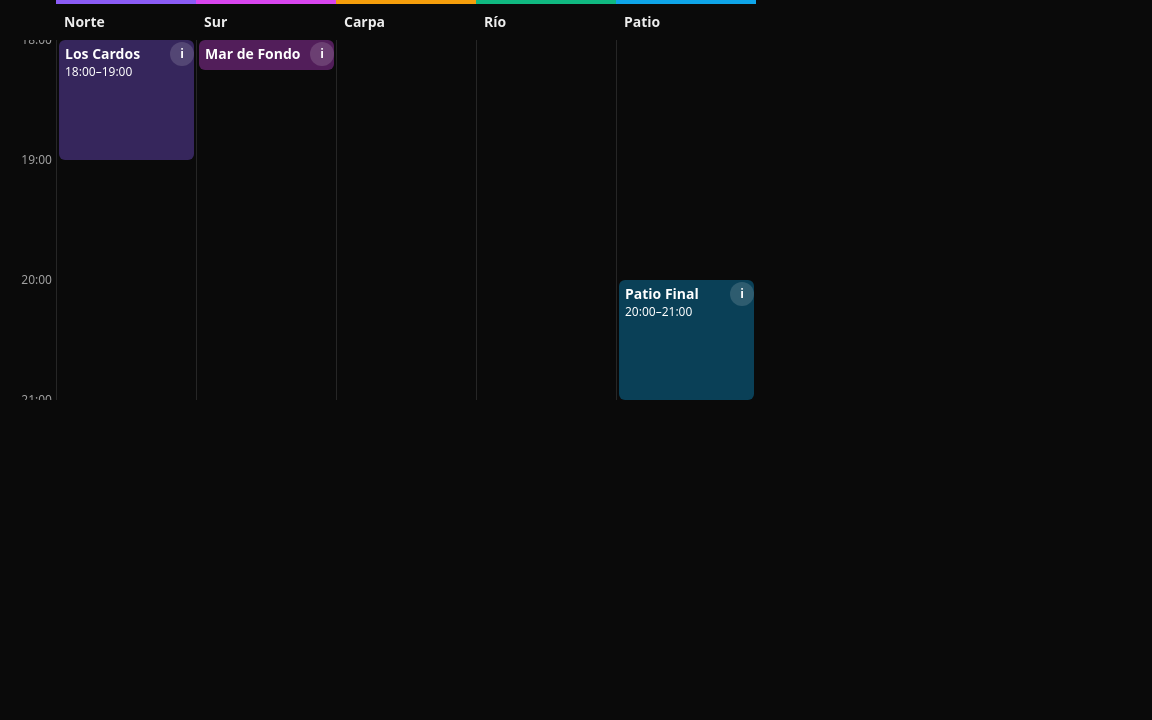
Test: DayGrid › opens the detail from the 'Ver detalle' control (AC-35, FR-085)
Click the button named "Ver detalle de Los Cardos" at (182, 54), box [170,42,194,66]
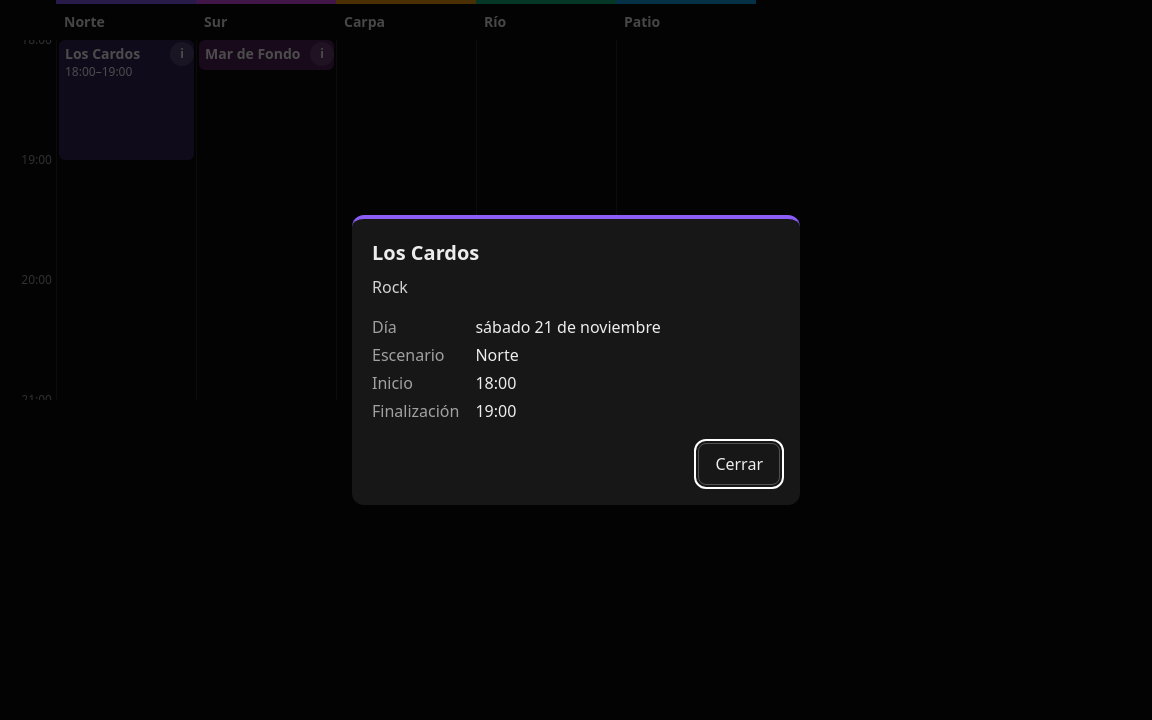
Expected: the dialog "Los Cardos" shows "Rock", [372,276,408,298]
Expected: the dialog "Los Cardos" shows "Norte", [475,344,519,366]
Expected: the dialog "Los Cardos" shows "18:00", [475,372,516,394]
Click the button "Cerrar" at (739, 464), box [698,443,780,485]
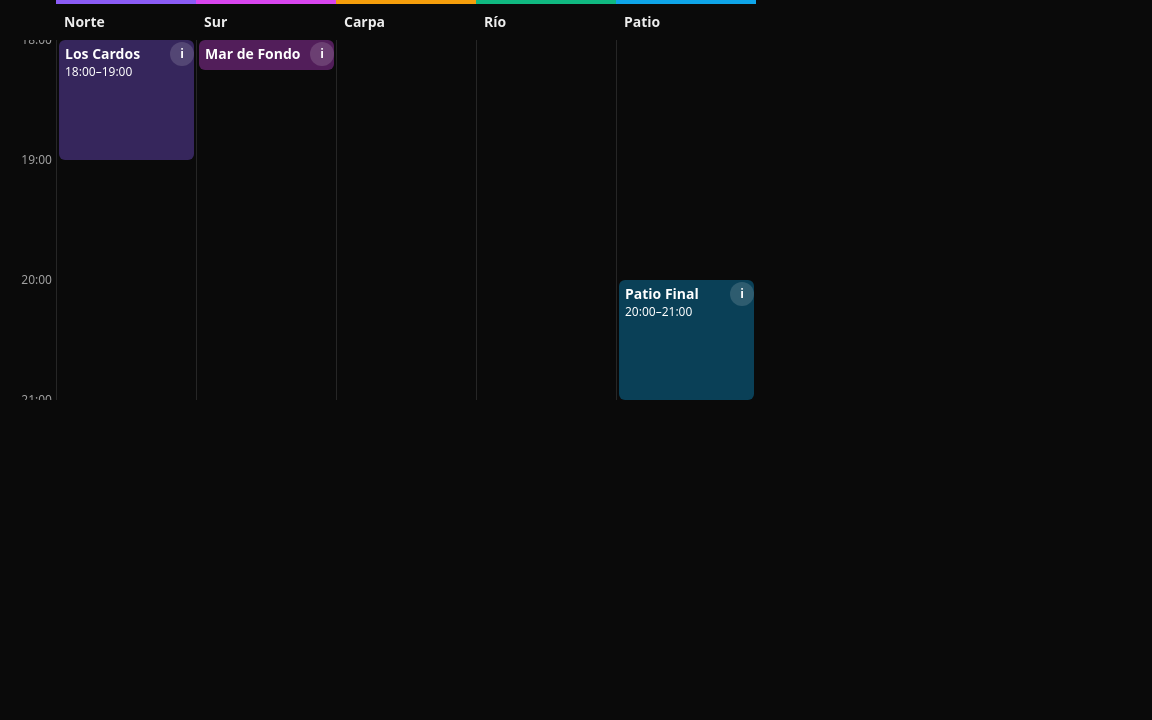
Expected: the dialog is gone
